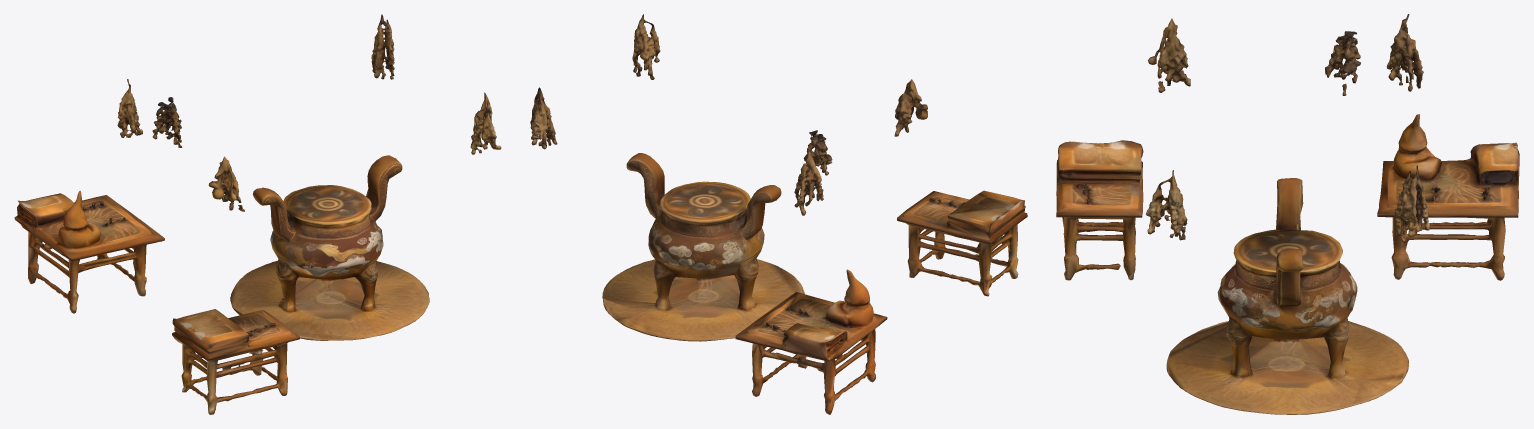
3 views of the same model, side by side, from view 1: azimuth 30°, elevation 25°; view 2: azimuth 150°, elevation 25°; view 3: azimuth 270°, elevation 25° (orthographic). The views are drawn at different scales.
Size of the model in its own units: 1.99 by 1.25 by 2.
1 material, 1 textured.
